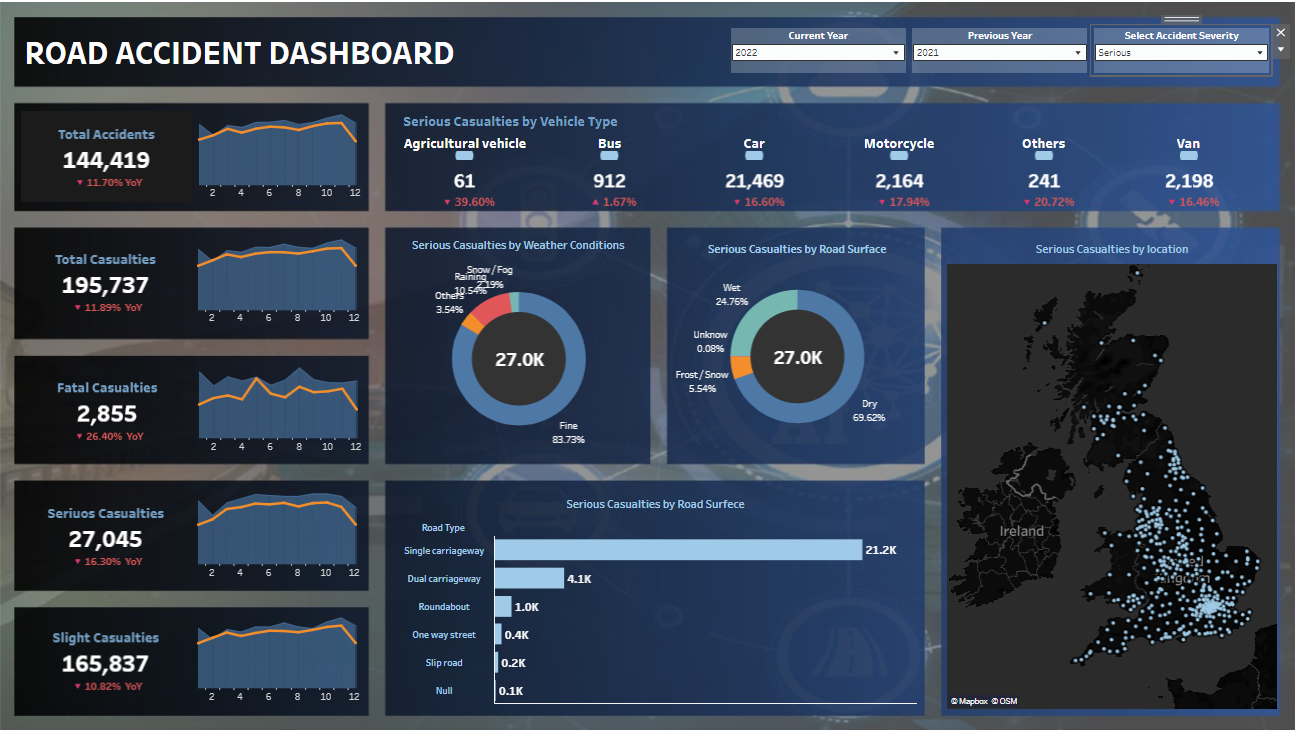

This screenshot's page, from the dashboard's own definition file:
{"tool":"powerbi","page":{"name":"Página 1","canvas":[1920,1080],"ordinal":0},"visuals":[{"type":"card","title":"Total CY Casualties","fields":{"Values":["Measures (2).CY casualties"]},"box":[21.7,141.2,347.5,126.7],"z":0},{"type":"card","fields":{"Values":["Measures (2).YoY Casualties"]},"box":[110.4,255.2,139.3,54.3],"z":1000},{"type":"card","title":"Total CY Accidents","fields":{"Values":["Measures (2).CY Accidents Counts"]},"box":[396.5,138.1,347.5,126.7],"z":2000},{"type":"card","fields":{"Values":["Measures (2).YoY Accidents"]},"box":[485.2,252.1,139.3,54.3],"z":3000},{"type":"card","title":"CY Fatal Casualties","fields":{"Values":["Measures (2).CY casualties"]},"box":[783.1,139.6,347.5,126.7],"z":4000},{"type":"card","fields":{"Values":["Measures (2).YoY Casualties"]},"box":[871.8,253.6,139.3,54.3],"z":5000},{"type":"card","title":"CY Serious Casualties","fields":{"Values":["Measures (2).CY casualties"]},"box":[1168.5,139.7,347.5,126.7],"z":6000},{"type":"card","fields":{"Values":["Measures (2).YoY Casualties"]},"box":[1257.2,253.7,139.3,54.3],"z":7000},{"type":"card","title":"CY Slight Casualties","fields":{"Values":["Measures (2).CY casualties"]},"box":[1545.7,139.8,347.5,126.7],"z":8000},{"type":"card","fields":{"Values":["Measures (2).YoY Casualties"]},"box":[1634.4,253.8,139.3,54.3],"z":9000},{"type":"textbox","box":[21.7,14.5,937.4,99.5],"z":10000},{"type":"multiRowCard","fields":{"Values":["Data.Vehicle_Type (grupos)","Measures (2).CY casualties"]},"box":[181,412.6,204.5,557.4],"z":11000},{"type":"image","box":[70.6,845.1,110.4,88.7],"z":12000},{"type":"image","box":[85.1,589.9,95.9,79.6],"z":13000},{"type":"image","box":[65.1,673.2,124.9,92.3],"z":14000},{"type":"image","box":[61.5,416.2,128.5,86.9],"z":15000},{"type":"image","box":[72.4,765.5,110.4,76],"z":16000},{"type":"image","box":[72.4,503.1,132.1,103.2],"z":17000},{"type":"textbox","box":[47.1,354.7,309.5,45.2],"z":18000},{"type":"areaChart","title":"CY Casualties vs PY Casualties Monthly Trend","fields":{"Category":["Calendar.Month"],"Y":["Sum(Data.Number_of_Casualties)"],"Series":["Calendar.Date.Variación.Jerarquía de fechas.Año"]},"box":[396.3,333,669.6,340.2],"z":19000},{"type":"donutChart","title":"Casualties por Urban / Rural","fields":{"Category":["Data.Urban_or_Rural_Area"],"Y":["Measures (2).CY casualties"]},"box":[1096.7,333,360.1,340.2],"z":20000},{"type":"donutChart","title":"Casualties by light conditions","fields":{"Y":["Measures (2).CY casualties"],"Category":["Data.Light_Conditions (grupos) 2"]},"box":[1096.7,704,360.1,340.2],"z":21000},{"type":"barChart","title":"Casualties by Road Type","fields":{"Category":["Data.Road_Type"],"Y":["Measures (2).CY casualties"]},"box":[396.3,704,669.6,340.2],"z":22000},{"type":"map","title":"Casualty by Location","fields":{"Y":["Data.Latitude"],"X":["Data.Longitude"],"Category":["Data.Local_Authority_(District)"]},"box":[1485.7,333,407.2,711.2],"z":23000},{"type":"slicer","fields":{"Values":["Data.Weather_Conditions (grupos)"]},"box":[1596.1,25.3,284.1,81.4],"z":24000},{"type":"slicer","fields":{"Values":["Data.Road_Surface_Conditions (grupos)"]},"box":[1312,25.3,284.1,81.4],"z":25000}]}

Visuals, with their boxes in screenshot pixels (x1, y1, x2, y2), scaled from the page's 1920x1080 canvas onto the 1295x730 screenshot:
"Total CY Casualties" card: BBox(15, 95, 249, 181)
card - Measures (2).YoY Casualties: BBox(74, 172, 168, 209)
"Total CY Accidents" card: BBox(267, 93, 502, 179)
card - Measures (2).YoY Accidents: BBox(327, 170, 421, 207)
"CY Fatal Casualties" card: BBox(528, 94, 763, 180)
card - Measures (2).YoY Casualties: BBox(588, 171, 682, 208)
"CY Serious Casualties" card: BBox(788, 94, 1023, 180)
card - Measures (2).YoY Casualties: BBox(848, 171, 942, 208)
"CY Slight Casualties" card: BBox(1043, 94, 1277, 180)
card - Measures (2).YoY Casualties: BBox(1102, 172, 1196, 208)
textbox: BBox(15, 10, 647, 77)
multiRowCard - Data.Vehicle_Type (grupos) x Measures (2).CY casualties: BBox(122, 279, 260, 656)
image: BBox(48, 571, 122, 631)
image: BBox(57, 399, 122, 453)
image: BBox(44, 455, 128, 517)
image: BBox(41, 281, 128, 340)
image: BBox(49, 517, 123, 569)
image: BBox(49, 340, 138, 410)
textbox: BBox(32, 240, 241, 270)
"CY Casualties vs PY Casualties Monthly Trend" areaChart: BBox(267, 225, 719, 455)
"Casualties por Urban / Rural" donutChart: BBox(740, 225, 983, 455)
"Casualties by light conditions" donutChart: BBox(740, 476, 983, 706)
"Casualties by Road Type" barChart: BBox(267, 476, 719, 706)
"Casualty by Location" map: BBox(1002, 225, 1277, 706)
slicer - Data.Weather_Conditions (grupos): BBox(1077, 17, 1268, 72)
slicer - Data.Road_Surface_Conditions (grupos): BBox(885, 17, 1077, 72)
